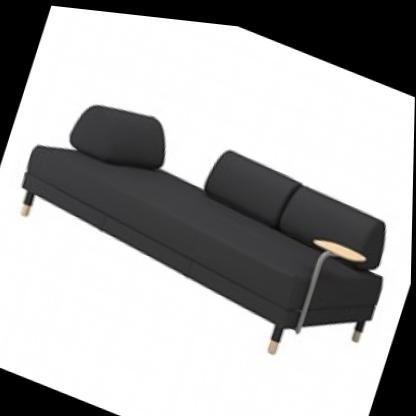Sofa: (0, 48, 413, 387)
